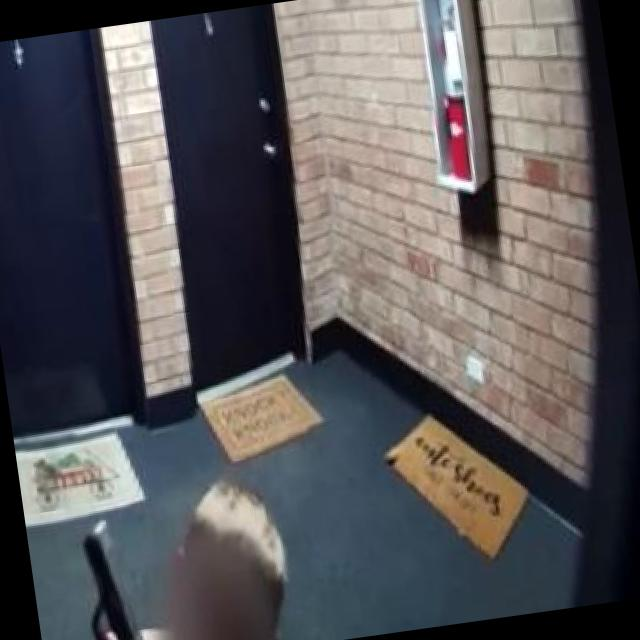Guns: (59, 507, 170, 640)
